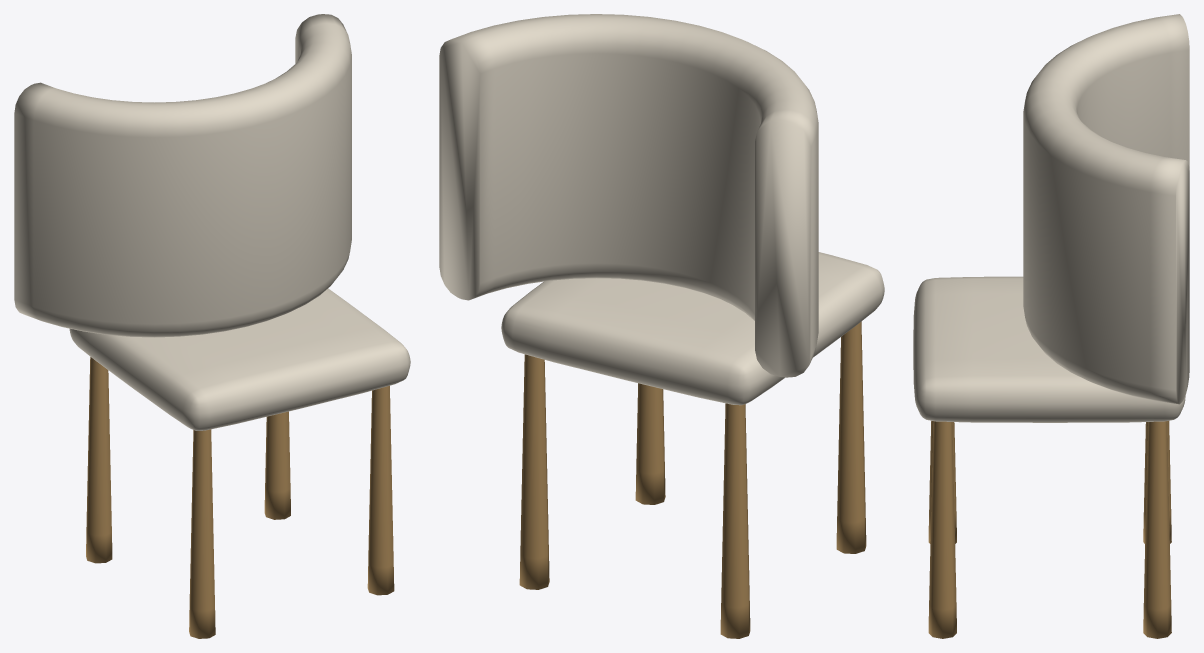
File: dining-chair.glb
The picture shows the model from 3 angles, left to right: view 1: azimuth 30°, elevation 25°; view 2: azimuth 150°, elevation 25°; view 3: azimuth 270°, elevation 25°; orthographic projection. The views are drawn at different scales.
Parts seen in each view (by area): view 1: dchair_back, dchair_seat, dchair_leg_-1_-1, dchair_leg_1_-1, dchair_leg_-1_1, dchair_leg_1_1; view 2: dchair_back, dchair_seat, dchair_leg_-1_1, dchair_leg_1_1, dchair_leg_-1_-1, dchair_leg_1_-1; view 3: dchair_back, dchair_seat, dchair_leg_1_1, dchair_leg_1_-1, dchair_leg_-1_1, dchair_leg_-1_-1.
Boxes of the visible parts, bbox=[...] form: dchair_back: bbox=[14, 14, 351, 337]; dchair_seat: bbox=[69, 288, 410, 430]; dchair_leg_-1_-1: bbox=[189, 429, 215, 638]; dchair_leg_1_-1: bbox=[367, 386, 394, 595]; dchair_leg_-1_1: bbox=[86, 357, 112, 563]; dchair_leg_1_1: bbox=[264, 411, 290, 519]; dchair_back: bbox=[439, 14, 818, 377]; dchair_seat: bbox=[501, 252, 884, 405]; dchair_leg_-1_1: bbox=[720, 403, 750, 638]; dchair_leg_1_1: bbox=[519, 354, 549, 589]; dchair_leg_-1_-1: bbox=[836, 321, 866, 553]; dchair_leg_1_-1: bbox=[635, 383, 665, 504]; dchair_back: bbox=[1023, 14, 1189, 404]; dchair_seat: bbox=[913, 276, 1185, 422]; dchair_leg_1_1: bbox=[1143, 421, 1171, 638]; dchair_leg_1_-1: bbox=[928, 421, 956, 638]; dchair_leg_-1_1: bbox=[1143, 421, 1171, 543]; dchair_leg_-1_-1: bbox=[928, 421, 956, 543].
Bounding box in the file's own units: 0.6665 × 0.92 × 0.4636.
